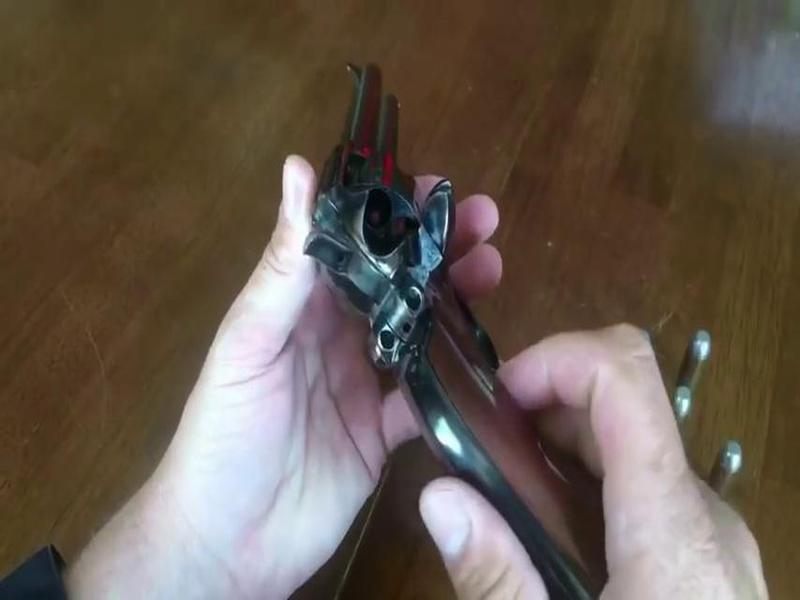Revolver: (312, 50, 527, 498)
